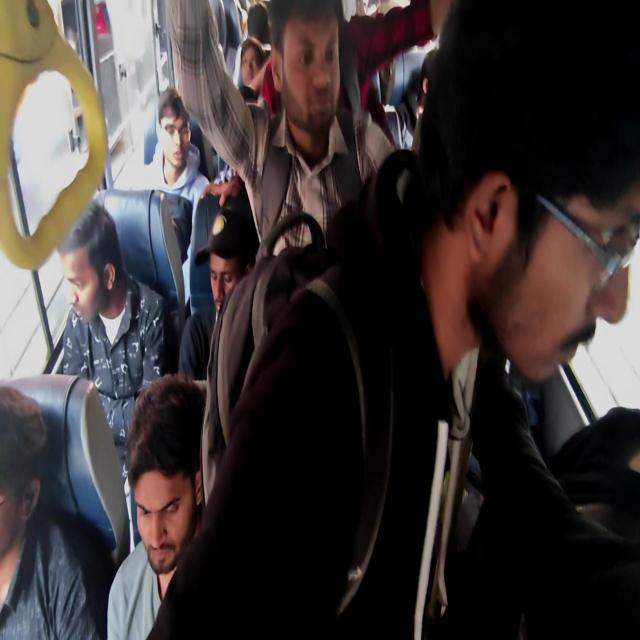person: (435, 7, 636, 391), (172, 0, 401, 255), (125, 439, 210, 575), (57, 194, 136, 337), (0, 384, 51, 603), (268, 0, 344, 133), (201, 206, 257, 317), (148, 85, 205, 194), (106, 540, 162, 640), (217, 93, 255, 187), (178, 306, 214, 385), (418, 45, 441, 122), (157, 88, 189, 130), (240, 35, 266, 80), (246, 1, 271, 46)
